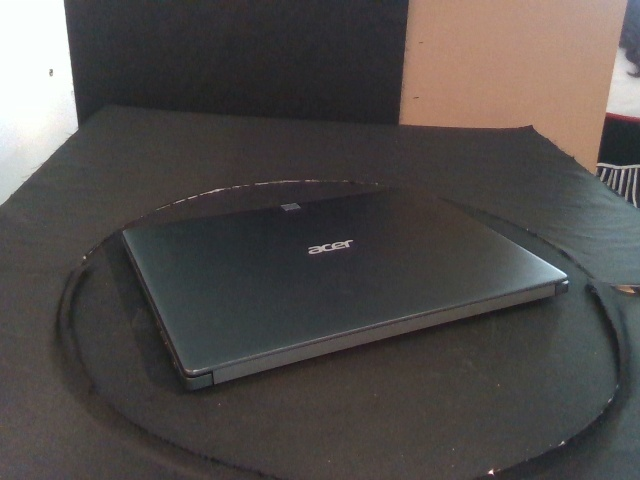laptop: (121, 185, 572, 394)
